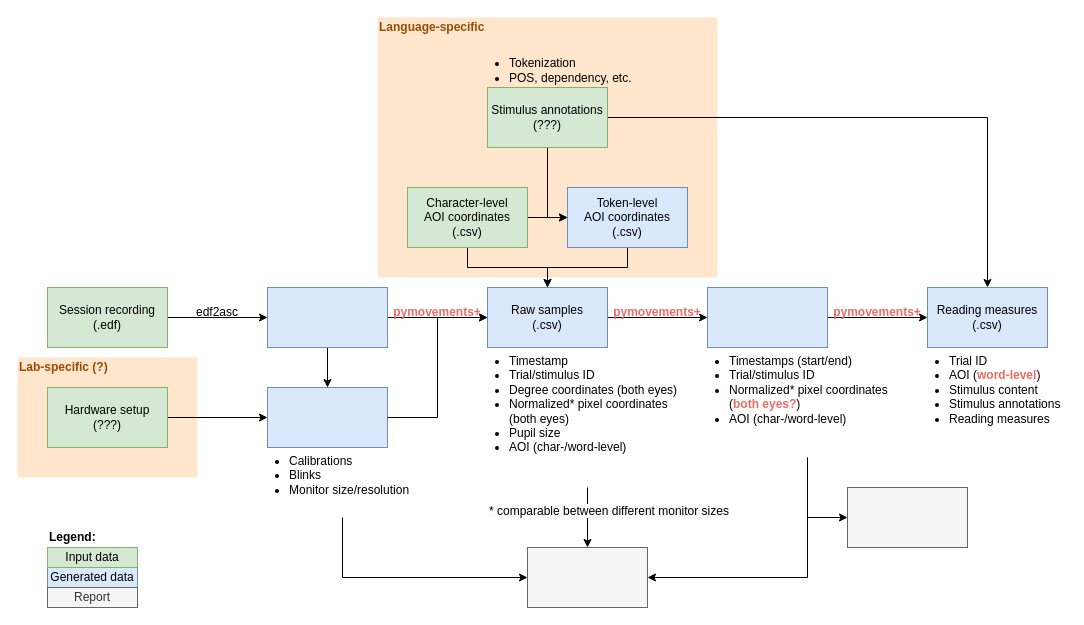
This 1084x625 diagram has some shape labels left out. The shapes that lost their labels are listed below. From the top down, each one's box as (x1, y1, x2, y2) in pixels, then its label:
(266, 286, 388, 348): Session recording (.asc)
(706, 286, 828, 348): Fixations (.csv)
(266, 386, 388, 448): Session metadata (.json)
(846, 486, 968, 548): Scanpath plots
(526, 546, 648, 608): Quality checks
